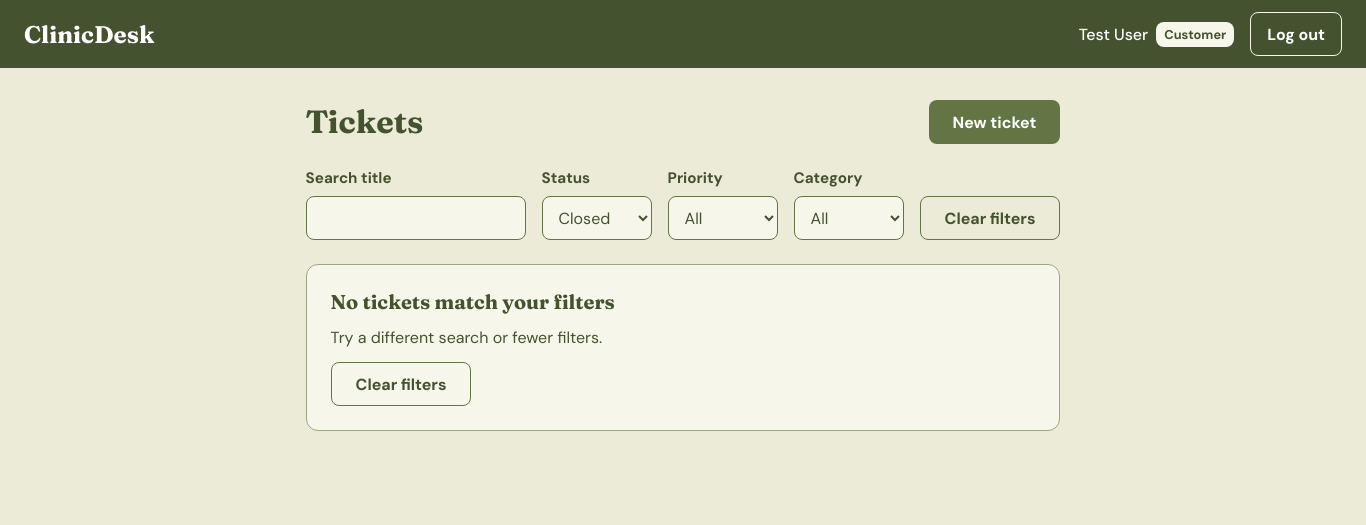
clear filters and empty states › shows "No tickets match your filters" with a clear action
The image size is (1366, 525).
Click the button "Clear filters" below "Try a different search or fewer filters." at (401, 384), box [331,362,471,406]
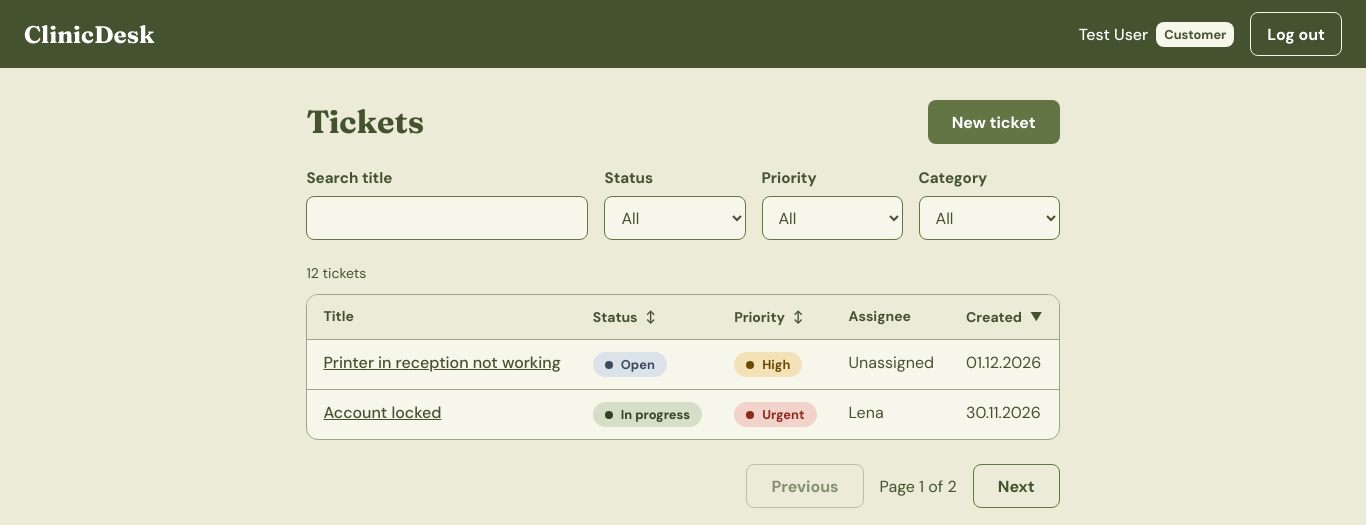
Expected: the table is shown, [307,295,1059,439]
